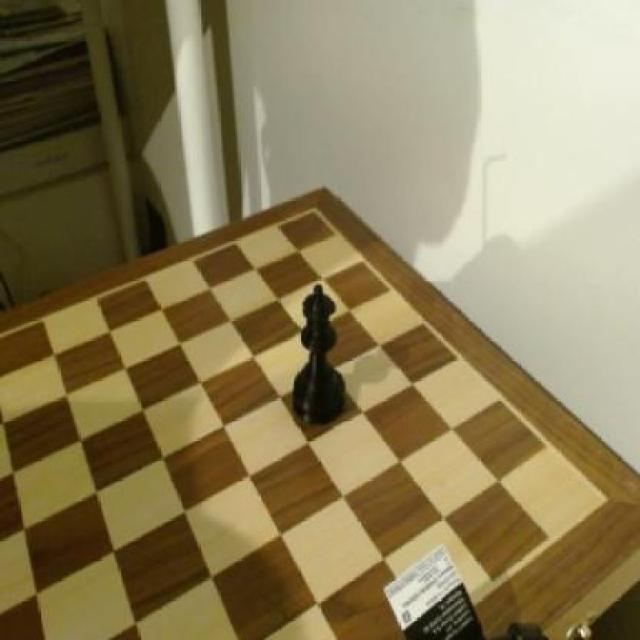black-pawn: (294, 278, 349, 428)
